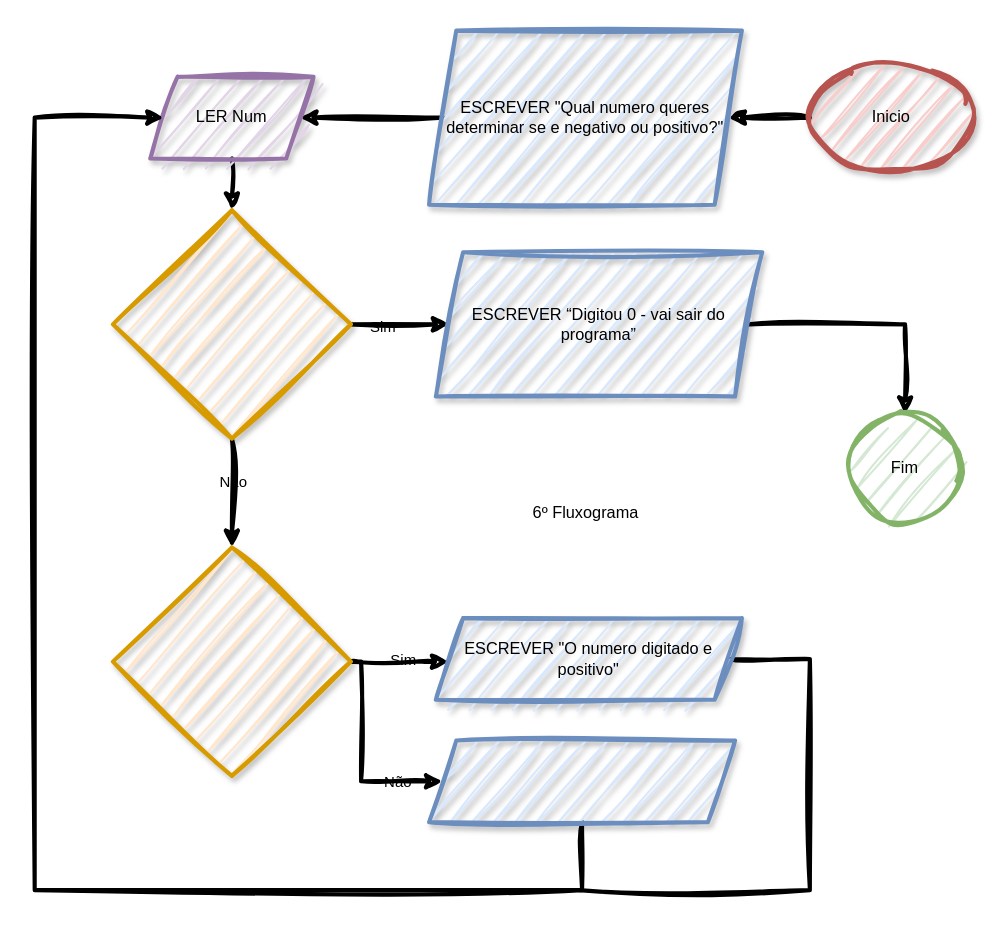
This 1006x926 diagram has some shape labels left out. Here are the shapes that lost their labels. From the top down, the centre of each, then its label:
[232,325]: Num=0
[232,663]: Num>0
[583,782]: ESCREVER "O numero digitado e negativo"
